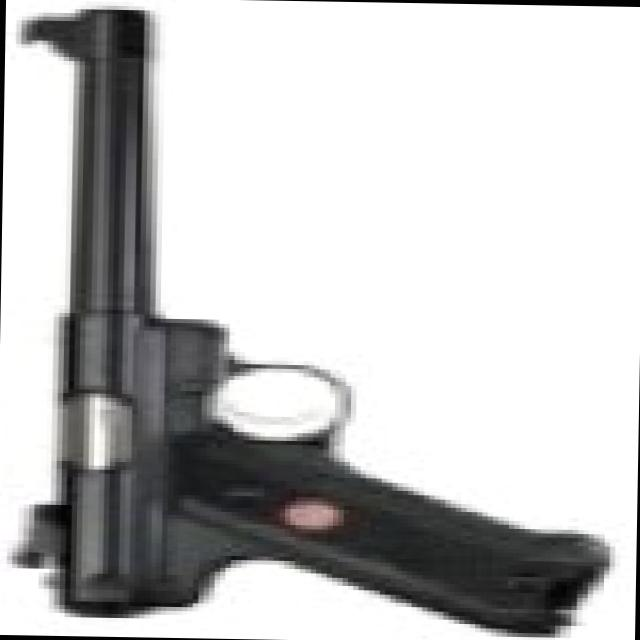handgun: (5, 6, 603, 639)
